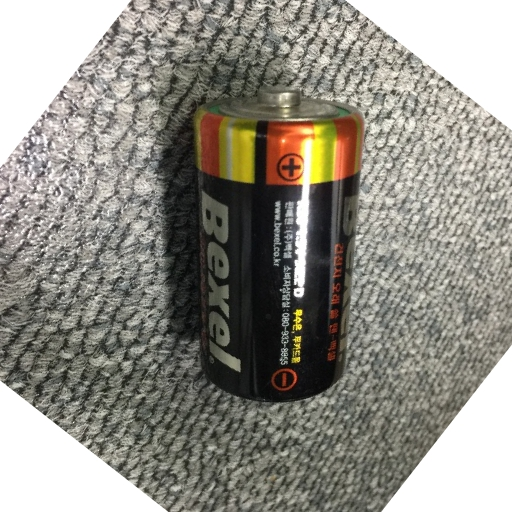Battery_0: (175, 71, 378, 414)
